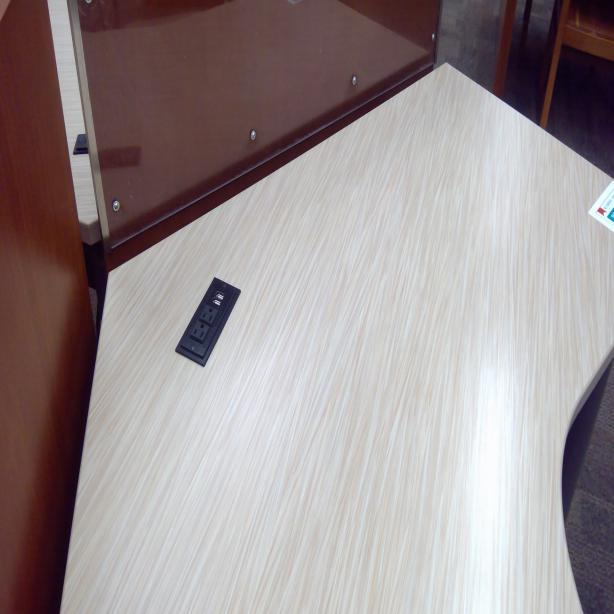typeb: (199, 300, 217, 324), (192, 323, 209, 345)
